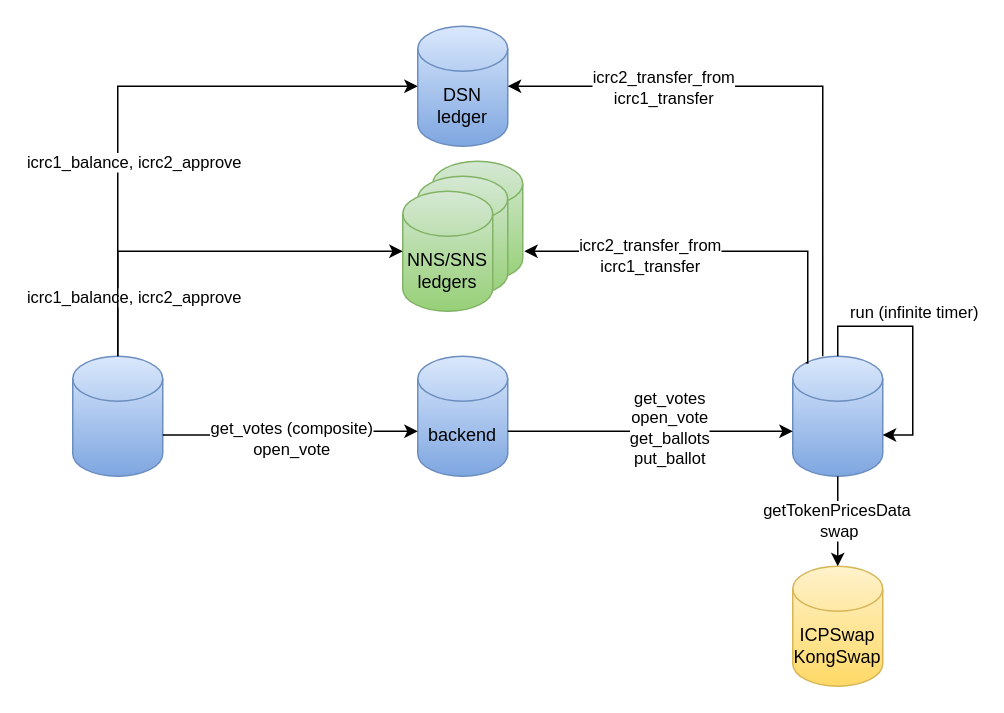
Image size: 1004x713. Some labels were removed from this diagram. The box of each missing label's shape, as (x1, y1, x2, y2) in pixels:
frontend: (71, 355, 163, 476)
protocol: (791, 355, 883, 476)
